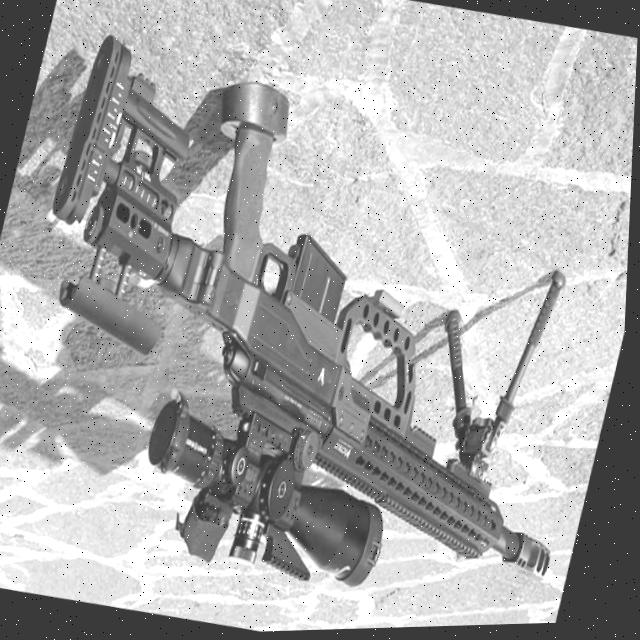firearm: (0, 20, 639, 636)
